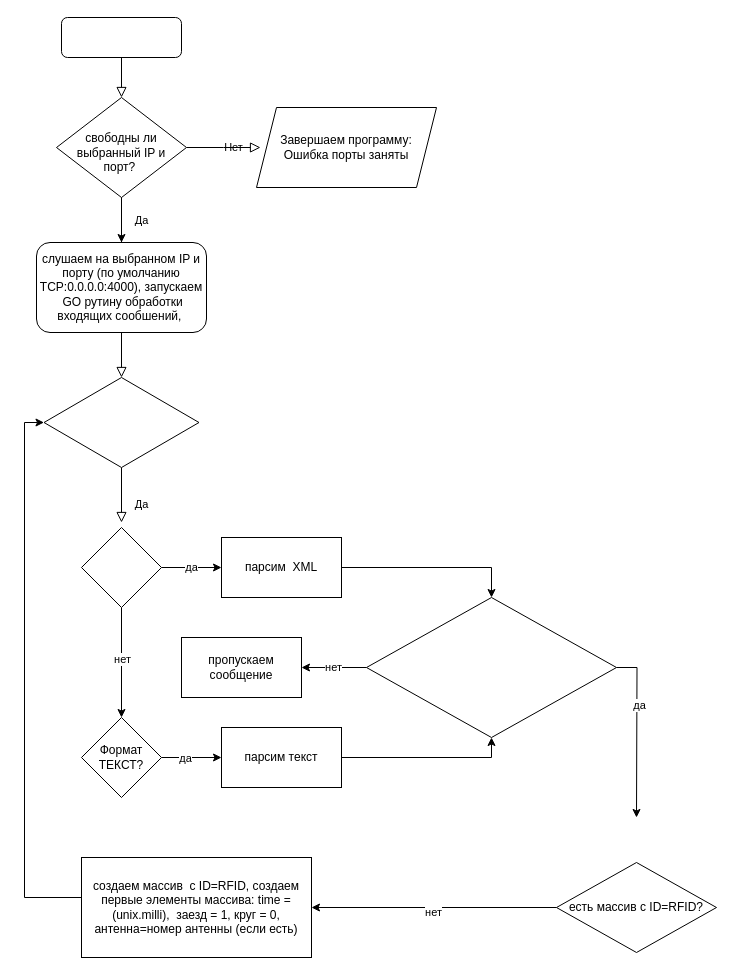
The diagram is 734 pixels wide and 975 high, and some of its shapes have lost their labels. The shapes that lost their labels are listed below. From the top down, each one's centre as x and y in pixels, then its label:
(121,37): старт
(121,422): Получено новое сообщение?
(121,567): Формат XML?
(491,667): Есть ли среди полученных данных информация RFID ID и время Unix(Millis)?
